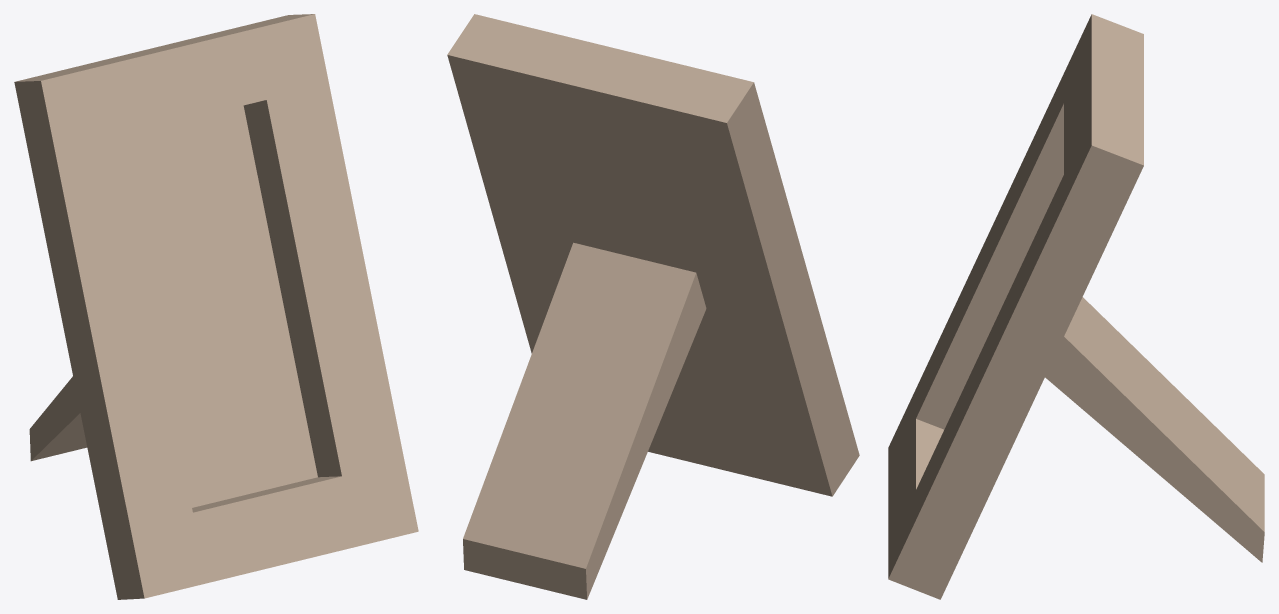
File: F_bossromm_photo_frame_small.fbx
3 renders of one model, left to right at view 1: azimuth 30°, elevation 25°; view 2: azimuth 150°, elevation 25°; view 3: azimuth 270°, elevation 25°, orthographic. The views are drawn at different scales.
Parts seen in each view (by area): view 1: photo_frame_small; view 2: photo_frame_small; view 3: photo_frame_small.
Part boxes in pixels (x1,y1,x2,y2): photo_frame_small: (14, 14, 418, 599); photo_frame_small: (447, 14, 859, 599); photo_frame_small: (888, 14, 1264, 599).
Size of the model in its own units: 14.02 by 22.6 by 16.97.
